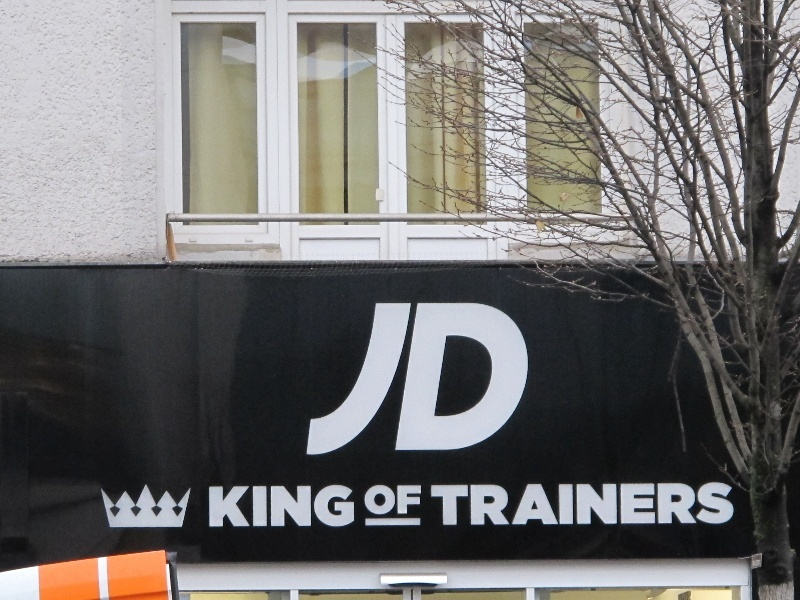text: (529, 302, 545, 457), (385, 302, 400, 457), (401, 302, 416, 457), (417, 302, 432, 457), (433, 302, 448, 457), (449, 302, 464, 457), (465, 302, 480, 457), (481, 302, 496, 457), (497, 302, 512, 457), (513, 302, 528, 457), (376, 302, 384, 457), (433, 482, 448, 529), (449, 482, 464, 529), (465, 482, 480, 529), (481, 482, 496, 529), (497, 482, 512, 529), (513, 482, 528, 529), (529, 482, 544, 529), (545, 482, 560, 529), (561, 482, 576, 529), (577, 482, 592, 529), (593, 482, 608, 529), (609, 482, 624, 529), (625, 482, 640, 529), (641, 482, 656, 529), (657, 482, 672, 529), (673, 482, 688, 529), (689, 482, 704, 529), (705, 482, 720, 529), (721, 482, 736, 529), (209, 485, 224, 530), (225, 485, 240, 530), (241, 485, 256, 530), (257, 485, 272, 530), (273, 485, 288, 530), (289, 485, 304, 530), (305, 485, 320, 530), (321, 485, 336, 530), (337, 485, 352, 530), (369, 482, 384, 517), (385, 482, 400, 517), (401, 482, 416, 517), (427, 482, 432, 529), (417, 482, 423, 517), (353, 485, 356, 530), (365, 482, 368, 517)
